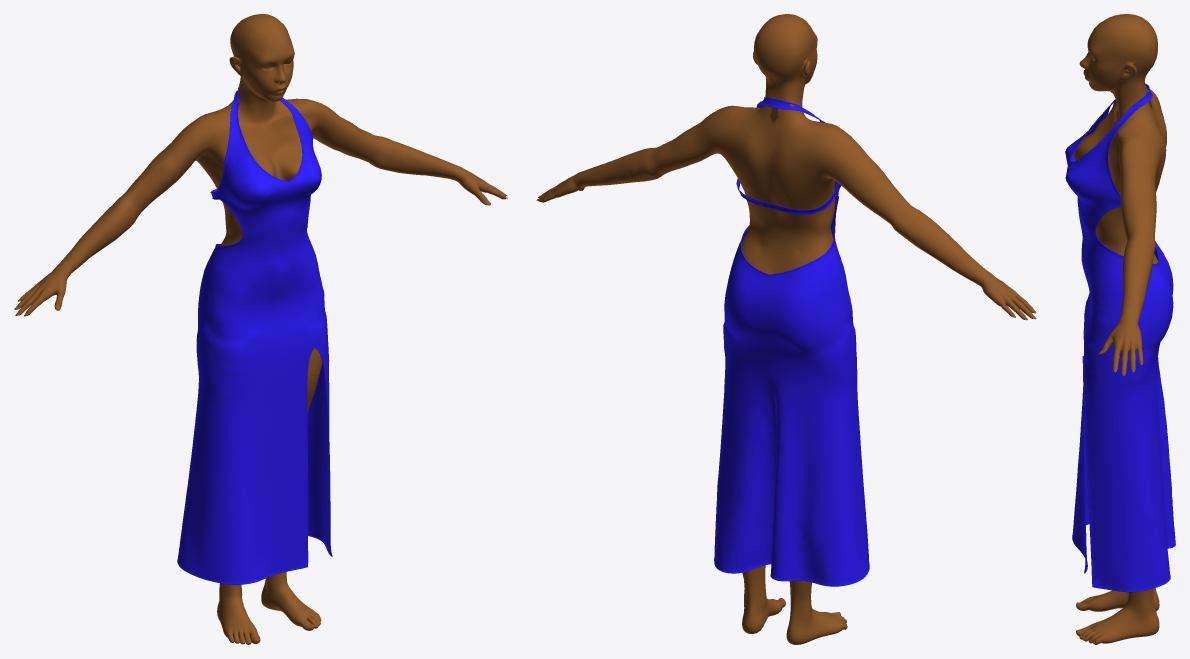
Rendered from dress9.glb.
3 views of the same model, side by side, from view 1: azimuth 30°, elevation 25°; view 2: azimuth 150°, elevation 25°; view 3: azimuth 270°, elevation 25° (orthographic).
Parts seen in each view (by area): view 1: EveningDress, Body; view 2: EveningDress, Body; view 3: EveningDress, Body.
Boxes of the visible parts, left/top/right/bottom form: EveningDress: left=177, top=87, right=332, bottom=584; Body: left=16, top=14, right=506, bottom=644; EveningDress: left=714, top=97, right=869, bottom=586; Body: left=538, top=14, right=1033, bottom=644; EveningDress: left=1065, top=83, right=1175, bottom=592; Body: left=1073, top=14, right=1166, bottom=644.
Bounding box in the file's own units: 1.58 × 1.85 × 0.306.
